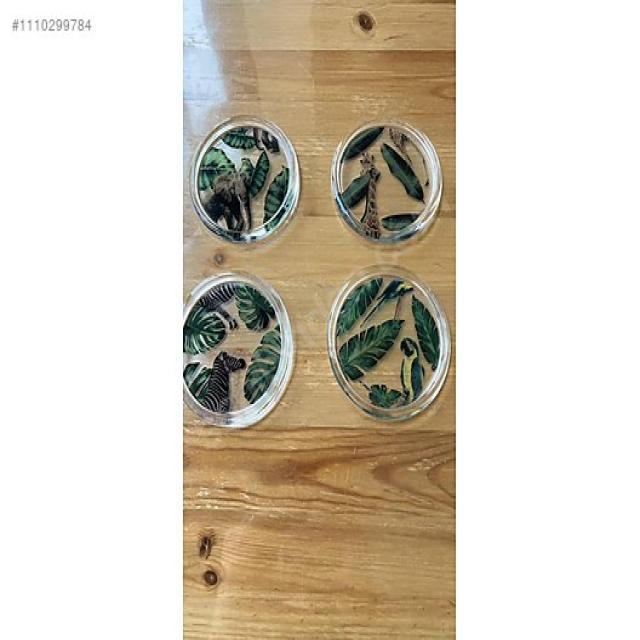-circle-round-: (183, 268, 304, 430), (327, 270, 452, 421), (188, 112, 309, 253), (326, 112, 446, 250)
